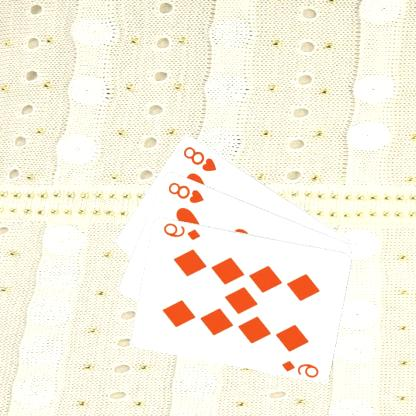8H: (182, 143, 219, 173), (167, 179, 208, 204)
9D: (280, 357, 322, 378), (162, 221, 203, 242)
